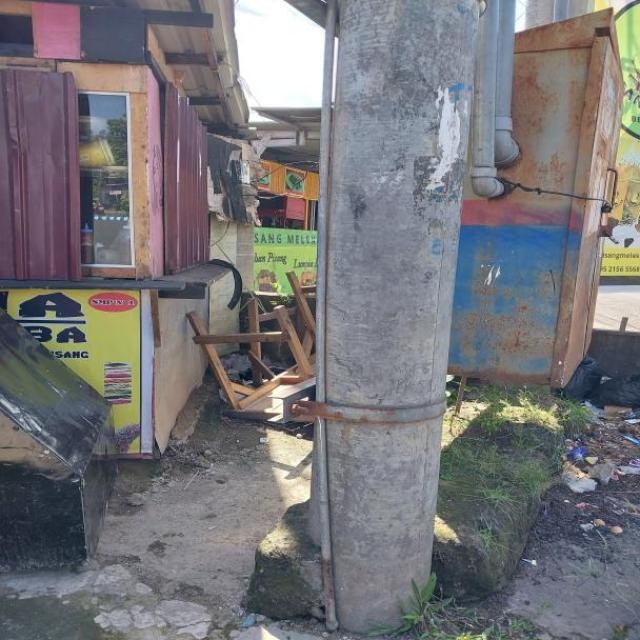electric pole ahead at: (298, 0, 474, 625)
